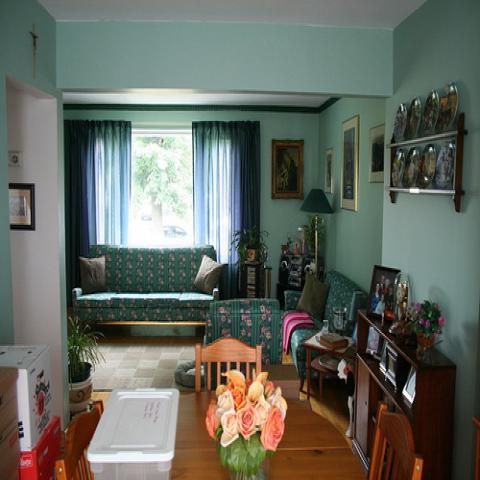car: (162, 225, 187, 237)
